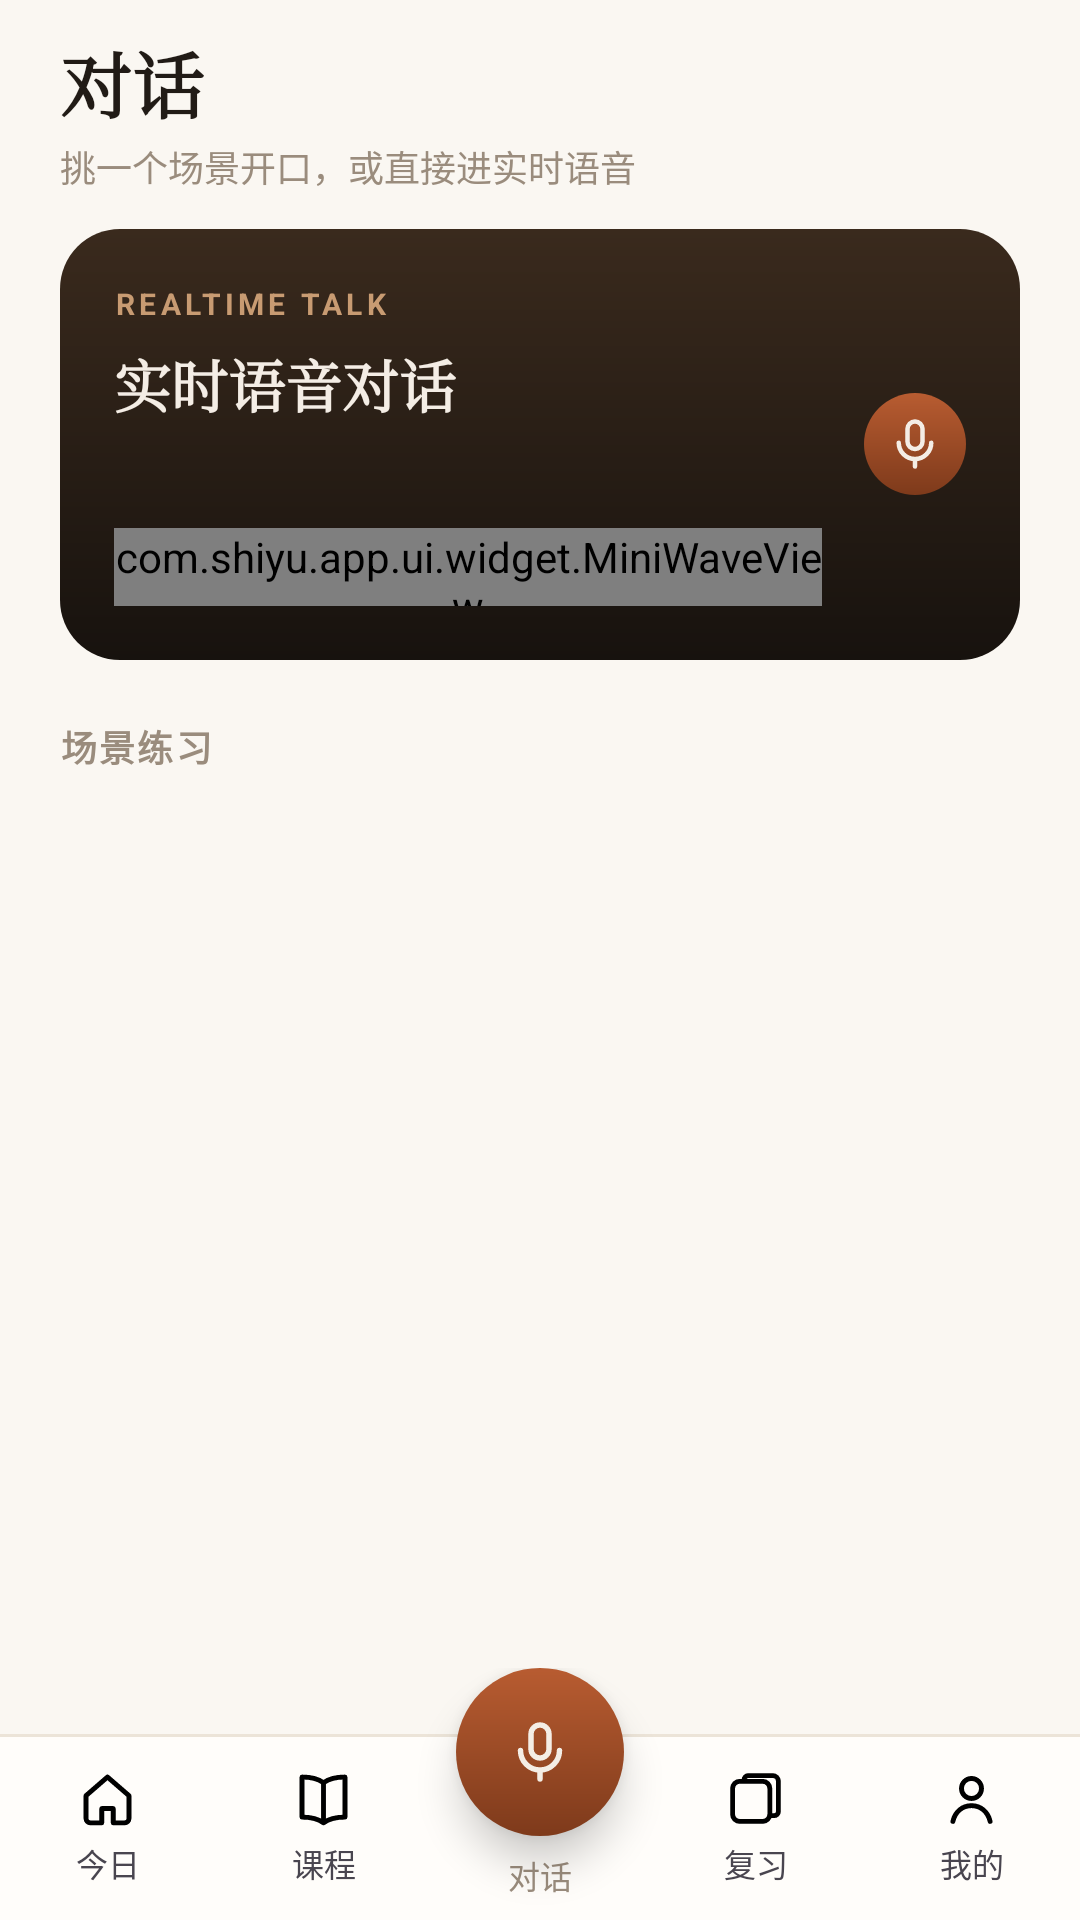

Icons on this 1080×1920 Android screen, each with its box as (x1, y1, x2, y2):
mic: (504, 1722, 576, 1788)
实时语音对话: (864, 393, 966, 495)
